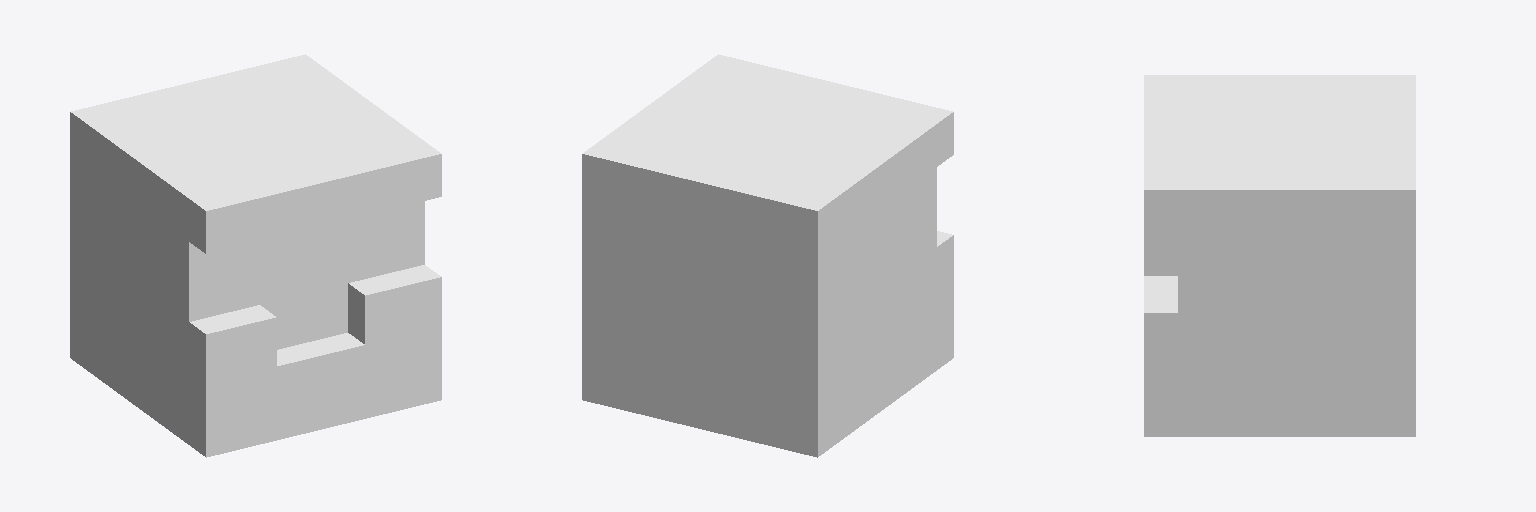
Rendered from holed_Hall_V2.obj.
3 renders of one model, left to right at view 1: azimuth 30°, elevation 25°; view 2: azimuth 150°, elevation 25°; view 3: azimuth 270°, elevation 25°, orthographic.
Visible parts, largest first — view 1: holed_Hall_V2; view 2: holed_Hall_V2; view 3: holed_Hall_V2.
Boxes of the visible parts, x1,y1,x2,y2 form: holed_Hall_V2: [70, 54, 441, 457]; holed_Hall_V2: [582, 54, 953, 457]; holed_Hall_V2: [1144, 75, 1415, 436].
Bounding box in the file's own units: 40 × 40 × 40.